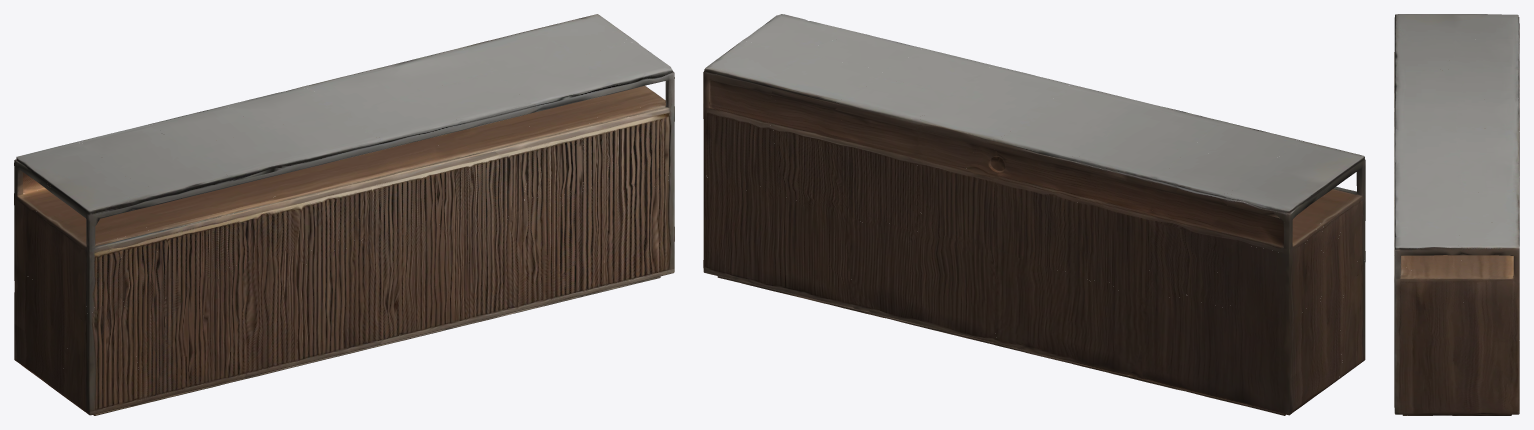
Rendered from credenza.glb.
3 renders of one model, left to right at view 1: azimuth 30°, elevation 25°; view 2: azimuth 150°, elevation 25°; view 3: azimuth 270°, elevation 25°, orthographic. The views are drawn at different scales.
Visible parts, largest first — view 1: tripo_node_eb1c8a77-1ef9-4e81-9b16-4c41df57dda0; view 2: tripo_node_eb1c8a77-1ef9-4e81-9b16-4c41df57dda0; view 3: tripo_node_eb1c8a77-1ef9-4e81-9b16-4c41df57dda0.
Part boxes in pixels (x1,y1,x2,y2): tripo_node_eb1c8a77-1ef9-4e81-9b16-4c41df57dda0: [14, 14, 674, 415]; tripo_node_eb1c8a77-1ef9-4e81-9b16-4c41df57dda0: [703, 14, 1365, 415]; tripo_node_eb1c8a77-1ef9-4e81-9b16-4c41df57dda0: [1394, 14, 1519, 415].
Bounding box in the file's own units: 2.2 × 0.7561 × 0.498.
1 material, 1 textured.
